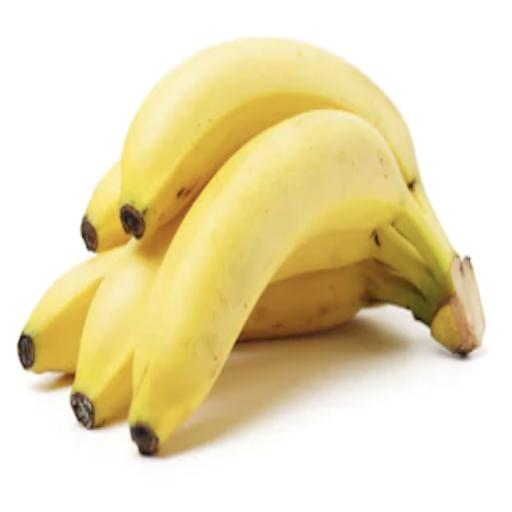banana: (130, 111, 475, 453), (120, 39, 446, 242), (72, 218, 181, 428), (71, 222, 177, 428), (241, 228, 435, 339), (239, 260, 433, 339), (18, 250, 120, 374), (82, 162, 128, 252)
